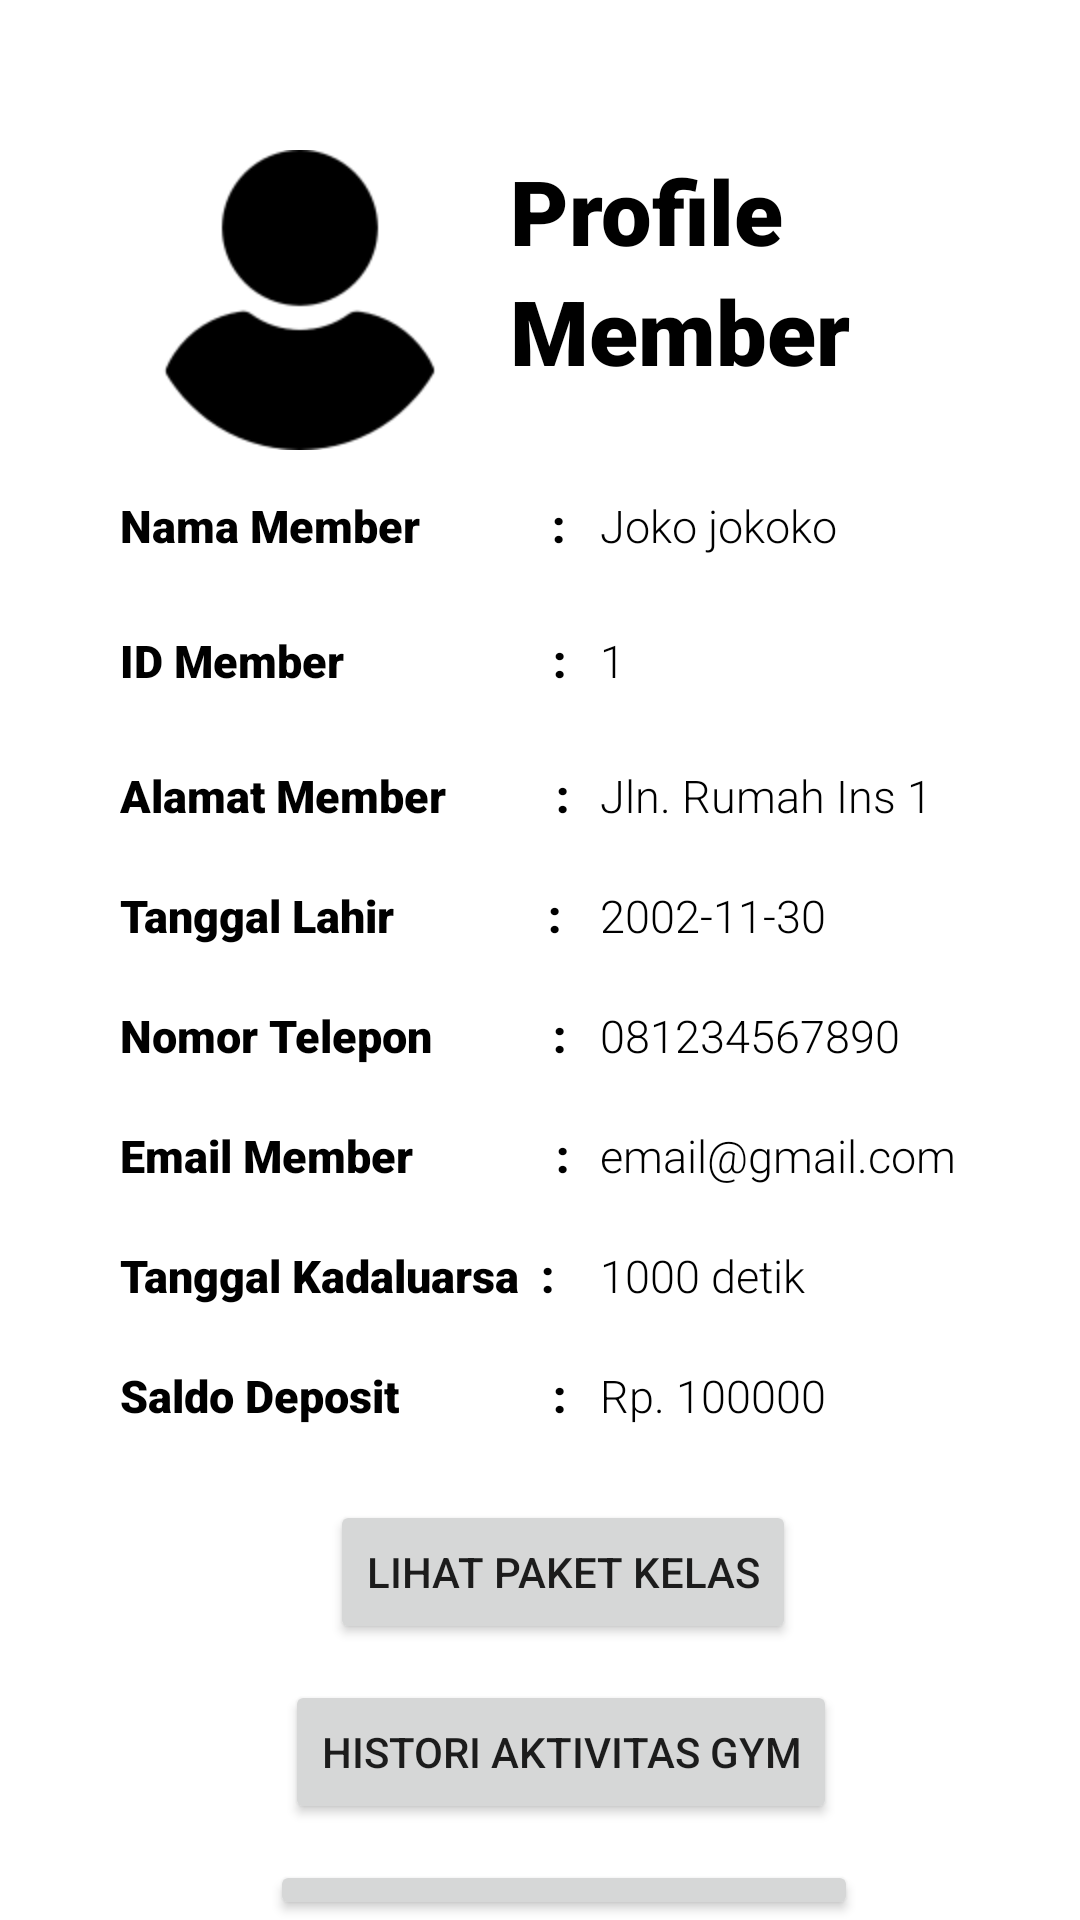

Point at icon controls on the screen. Image size 1080 x 1920, points as (x,y).
user: (300,300)
